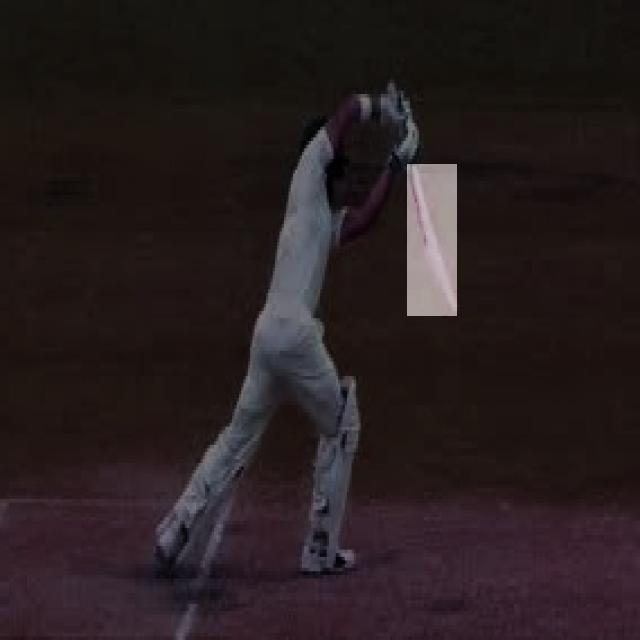bat: (405, 164, 460, 318)
